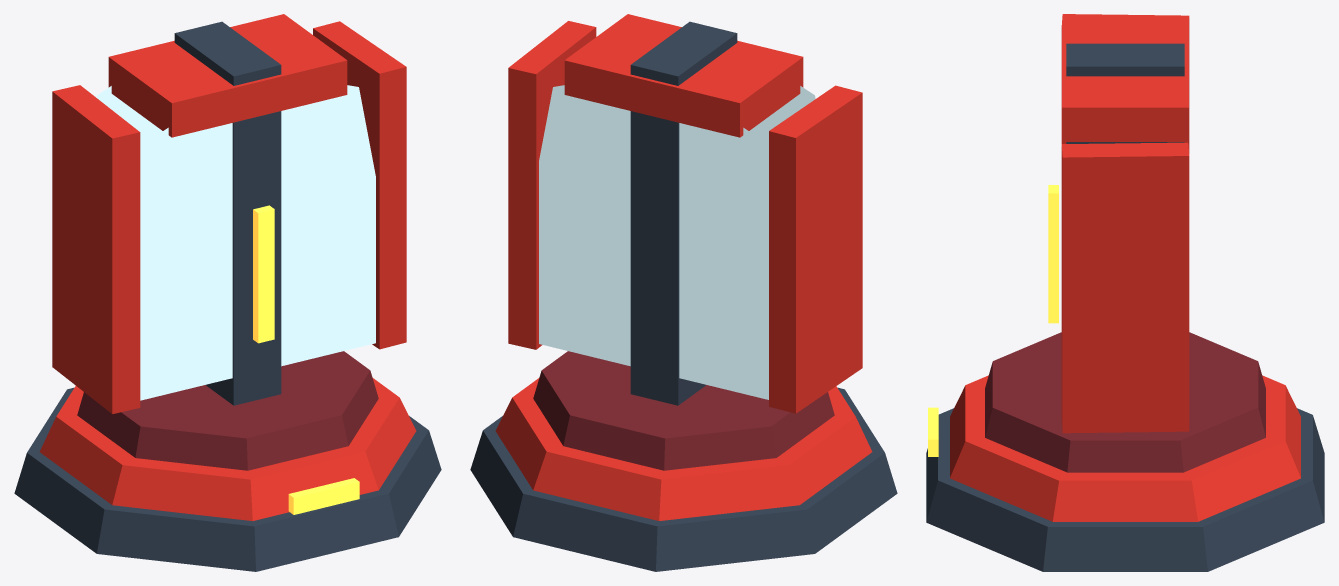
File: double_mirror_red.glb
The picture shows the model from 3 angles, left to right: view 1: azimuth 30°, elevation 25°; view 2: azimuth 150°, elevation 25°; view 3: azimuth 270°, elevation 25°; orthographic projection.
Visible parts, largest first — view 1: double_mirror_red_Mirror_Back, double_mirror_red_Frame_Left, double_mirror_red_Base_Lower, double_mirror_red_Base_Deck, double_mirror_red_Base_Band, double_mirror_red_Frame_Top, double_mirror_red_Central_Spine, double_mirror_red_Frame_Right, double_mirror_red_Optical_Slit, double_mirror_red_Status_Light, double_mirror_red_Mirror_Front; view 2: double_mirror_red_Mirror_Front, double_mirror_red_Frame_Left, double_mirror_red_Base_Lower, double_mirror_red_Base_Band, double_mirror_red_Base_Deck, double_mirror_red_Central_Spine, double_mirror_red_Frame_Top, double_mirror_red_Frame_Right, double_mirror_red_Mirror_Back; view 3: double_mirror_red_Frame_Right, double_mirror_red_Base_Lower, double_mirror_red_Base_Band, double_mirror_red_Base_Deck, double_mirror_red_Frame_Top, double_mirror_red_Central_Spine, double_mirror_red_Optical_Slit, double_mirror_red_Frame_Left, double_mirror_red_Status_Light.
Part boxes in pixels (<box>): double_mirror_red_Mirror_Back: <box>140,85,375,400</box>; double_mirror_red_Frame_Left: <box>52,85,140,413</box>; double_mirror_red_Base_Lower: <box>14,387,441,571</box>; double_mirror_red_Base_Deck: <box>77,351,378,470</box>; double_mirror_red_Base_Band: <box>39,378,416,520</box>; double_mirror_red_Frame_Top: <box>108,14,347,137</box>; double_mirror_red_Central_Spine: <box>174,21,281,405</box>; double_mirror_red_Frame_Right: <box>313,21,406,349</box>; double_mirror_red_Optical_Slit: <box>253,205,274,343</box>; double_mirror_red_Status_Light: <box>288,478,359,514</box>; double_mirror_red_Mirror_Front: <box>96,86,162,214</box>; double_mirror_red_Mirror_Front: <box>539,85,768,399</box>; double_mirror_red_Frame_Left: <box>769,85,862,413</box>; double_mirror_red_Base_Lower: <box>470,387,897,571</box>; double_mirror_red_Base_Band: <box>495,378,872,520</box>; double_mirror_red_Base_Deck: <box>533,351,834,470</box>; double_mirror_red_Central_Spine: <box>630,21,737,405</box>; double_mirror_red_Frame_Top: <box>564,14,803,137</box>; double_mirror_red_Frame_Right: <box>508,21,596,349</box>; double_mirror_red_Mirror_Back: <box>749,86,815,199</box>; double_mirror_red_Frame_Right: <box>1061,142,1189,433</box>; double_mirror_red_Base_Lower: <box>926,408,1324,571</box>; double_mirror_red_Base_Band: <box>950,375,1300,521</box>; double_mirror_red_Base_Deck: <box>985,332,1265,472</box>; double_mirror_red_Frame_Top: <box>1062,22,1188,141</box>; double_mirror_red_Central_Spine: <box>1066,43,1184,143</box>; double_mirror_red_Optical_Slit: <box>1048,185,1058,323</box>; double_mirror_red_Frame_Left: <box>1061,14,1189,153</box>; double_mirror_red_Status_Light: <box>928,407,938,456</box>.
Size of the model in its own units: 0.9424 by 1.13 by 0.9424.
